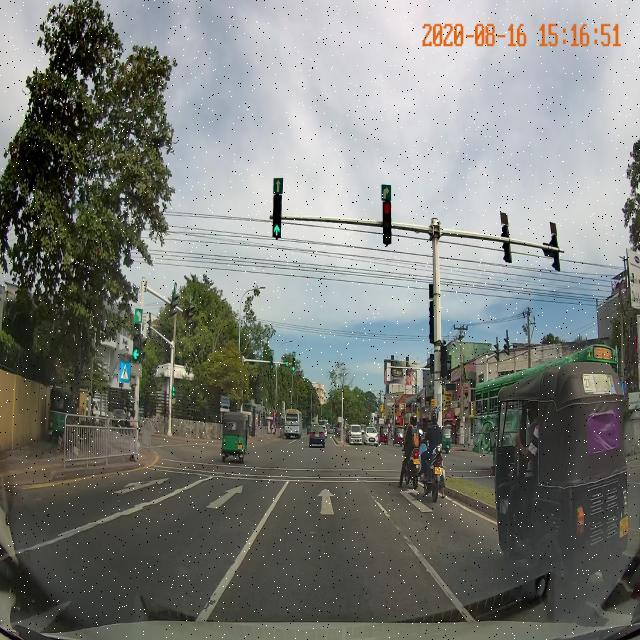forward: (237, 474, 429, 550)
